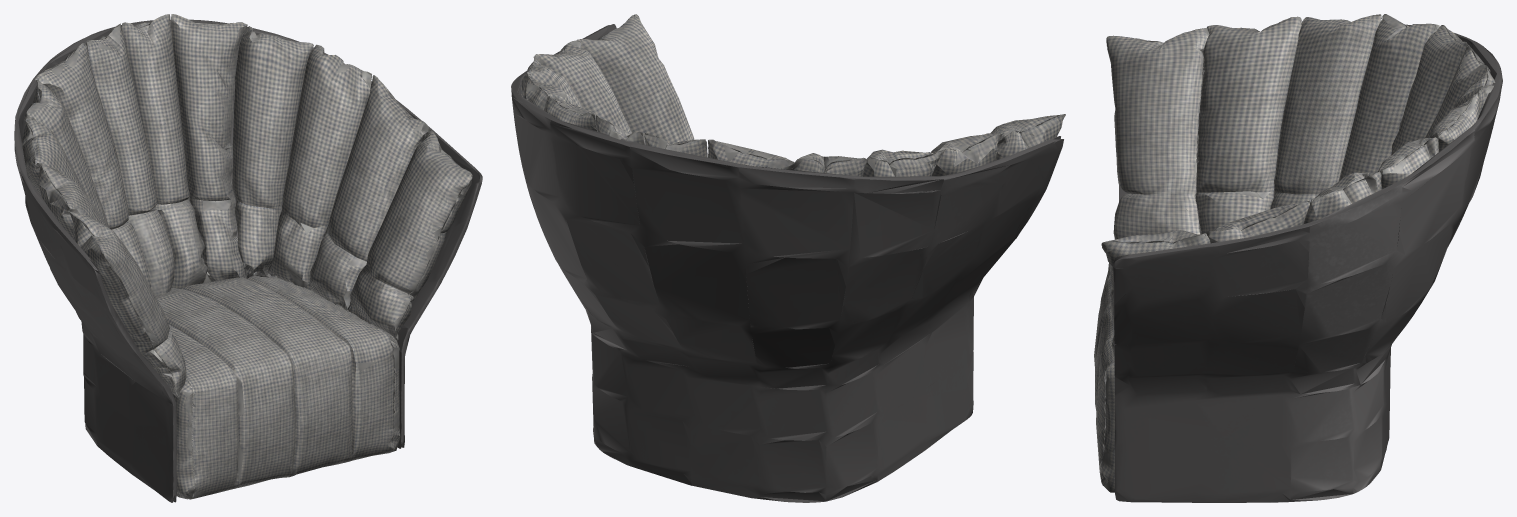
File: raw_model.obj
3 views of the same model, side by side, from view 1: azimuth 30°, elevation 25°; view 2: azimuth 150°, elevation 25°; view 3: azimuth 270°, elevation 25° (orthographic). The views are drawn at different scales.
Visible parts, largest first — view 1: solid_001, solid_002; view 2: solid_002, solid_001; view 3: solid_002, solid_001.
Boxes of the visible parts, x1=… form: solid_001: x1=22, y1=14, x2=472, y2=499; solid_002: x1=14, y1=19, x2=482, y2=502; solid_002: x1=511, y1=24, x2=1063, y2=502; solid_001: x1=520, y1=14, x2=1065, y2=176; solid_002: x1=1113, y1=24, x2=1502, y2=502; solid_001: x1=1094, y1=14, x2=1495, y2=492.
Size of the model in its own units: 1 by 0.8311 by 0.8245.
Materials: 1 (1 with a texture image).
